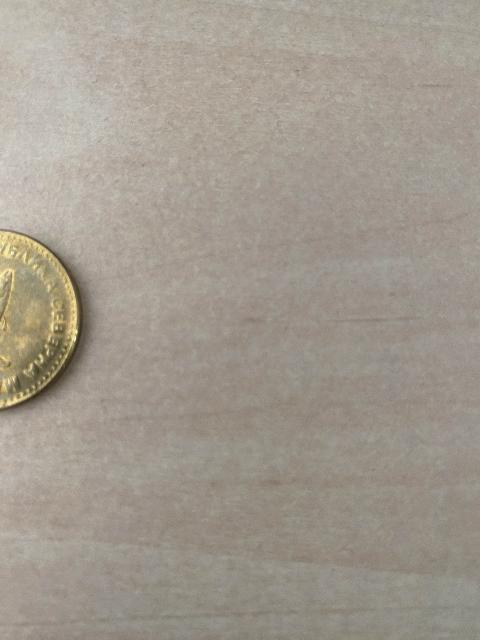2_coin: (0, 231, 81, 408)
